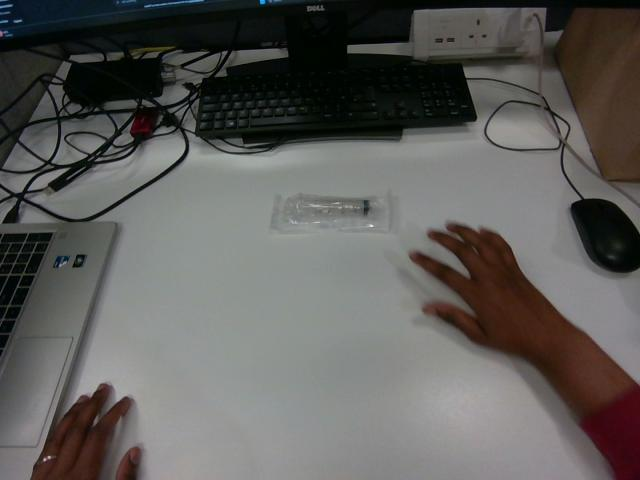syringe: (270, 193, 391, 233)
